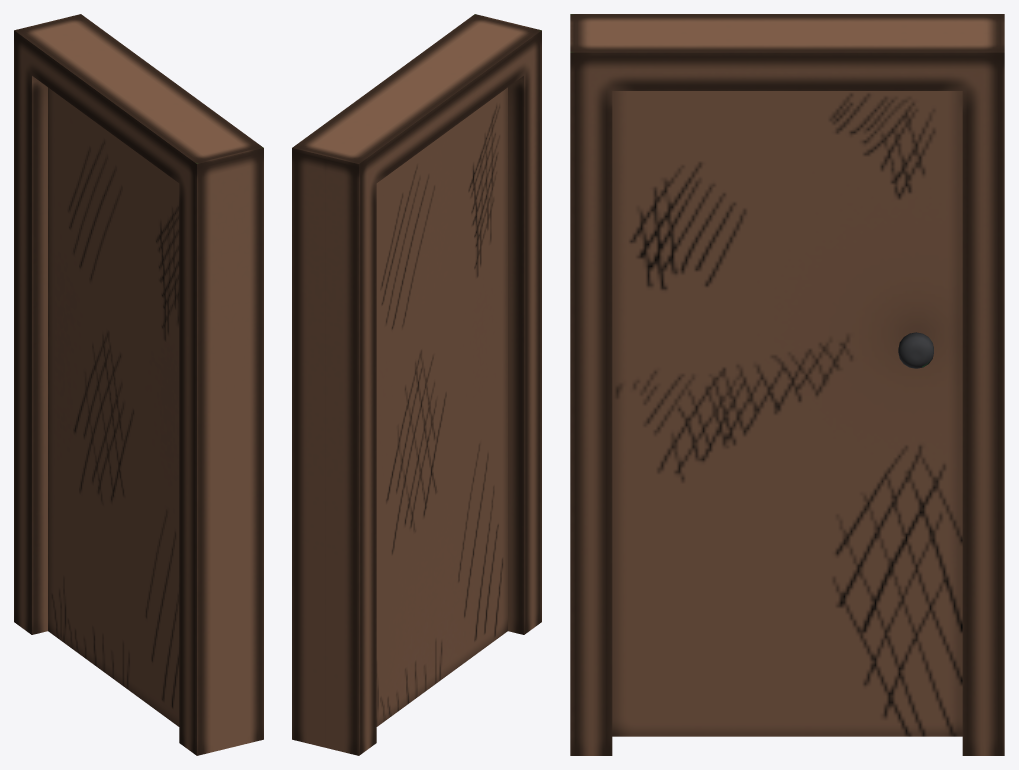
The model's file is StandingDoor_04.fbx.
3 views of the same model, side by side, from view 1: azimuth 30°, elevation 25°; view 2: azimuth 150°, elevation 25°; view 3: azimuth 270°, elevation 25° (orthographic). The views are drawn at different scales.
Visible parts, largest first — view 1: Cube.022, Cube.008; view 2: Cube.022, Cube.008; view 3: Cube.008, Cube.022.
Part boxes in pixels (left/top/right/bottom): Cube.022: left=14, top=14, right=263, bottom=755; Cube.008: left=48, top=87, right=179, bottom=726; Cube.022: left=292, top=14, right=541, bottom=755; Cube.008: left=376, top=87, right=507, bottom=726; Cube.008: left=612, top=91, right=962, bottom=736; Cube.022: left=570, top=14, right=1004, bottom=755.
Bounding box in the file's own units: 22.84 × 185 × 103.
